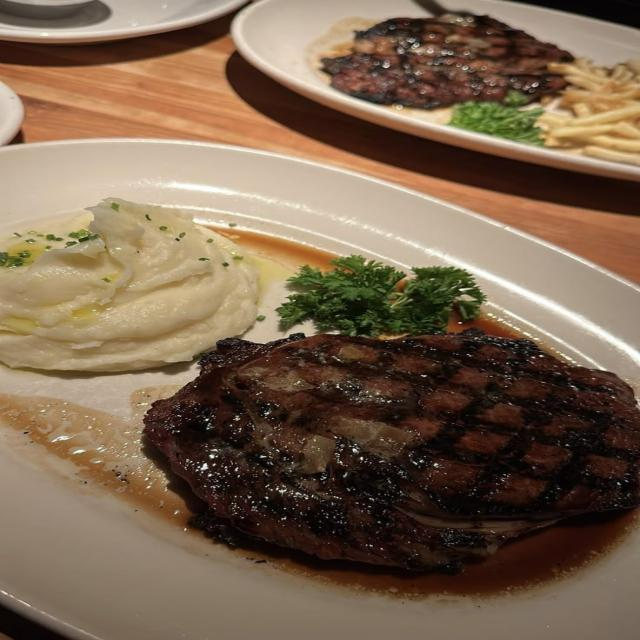beef steak: (144, 332, 639, 570)
mashed potatoes: (0, 198, 257, 371)
